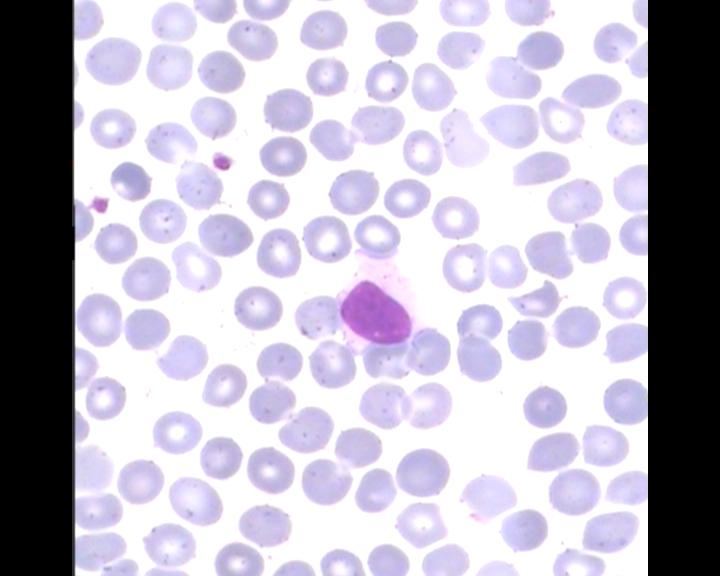mono: (334, 253, 423, 357)
